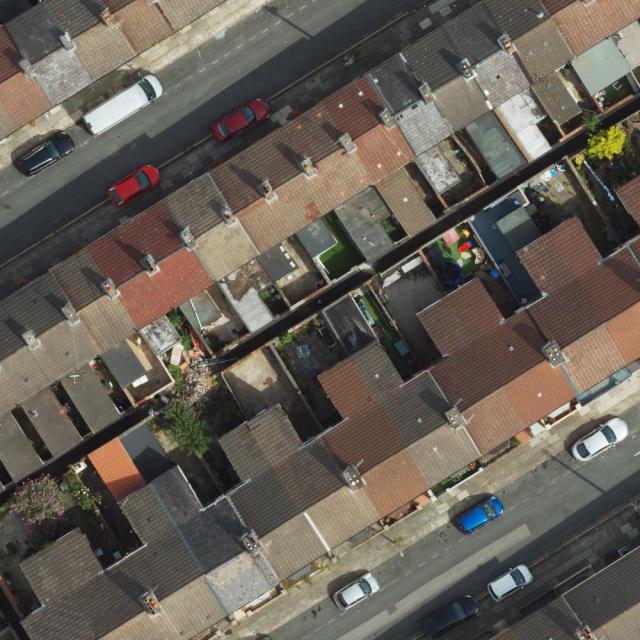roof: (0, 0, 640, 482), (17, 172, 640, 640), (0, 0, 227, 139), (483, 542, 640, 640)
